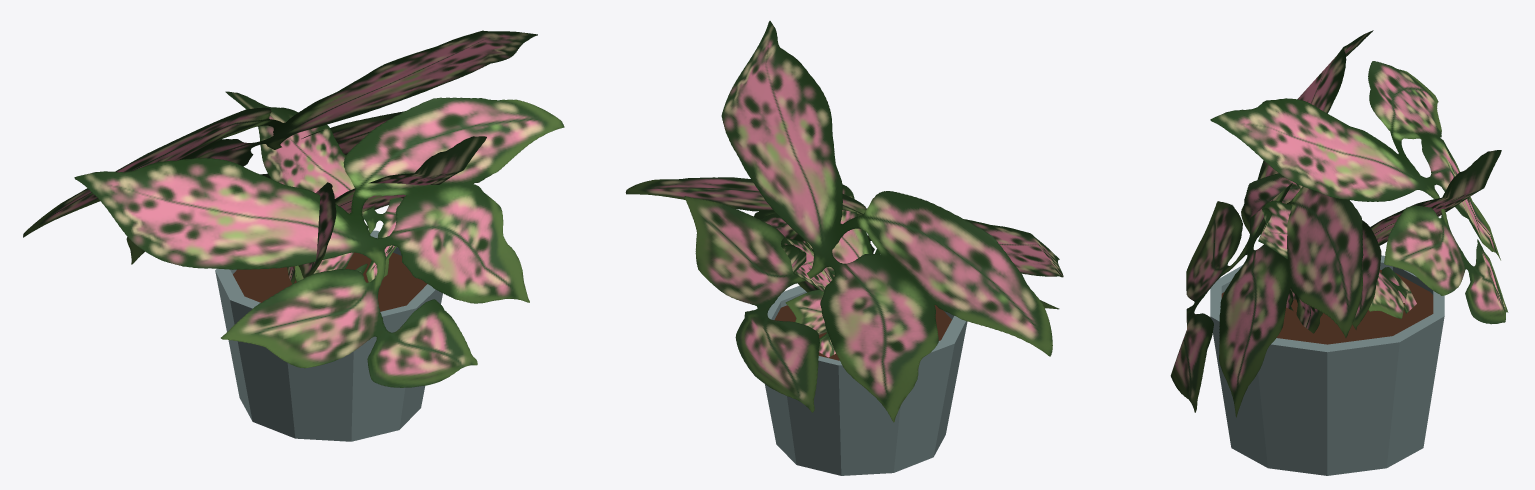
The model's file is Pot_Aglaonema_001.fbx.
3 renders of one model, left to right at view 1: azimuth 30°, elevation 25°; view 2: azimuth 150°, elevation 25°; view 3: azimuth 270°, elevation 25°, orthographic. The views are drawn at different scales.
Parts seen in each view (by area): view 1: Pot_Aglaomena; view 2: Pot_Aglaomena; view 3: Pot_Aglaomena.
Boxes of the visible parts, left/top/right/bottom form: Pot_Aglaomena: left=23, top=30, right=564, bottom=441; Pot_Aglaomena: left=625, top=21, right=1063, bottom=475; Pot_Aglaomena: left=1170, top=30, right=1508, bottom=475.
Size of the model in its own units: 7.94 by 5.79 by 4.7.
3 materials, 1 textured.
